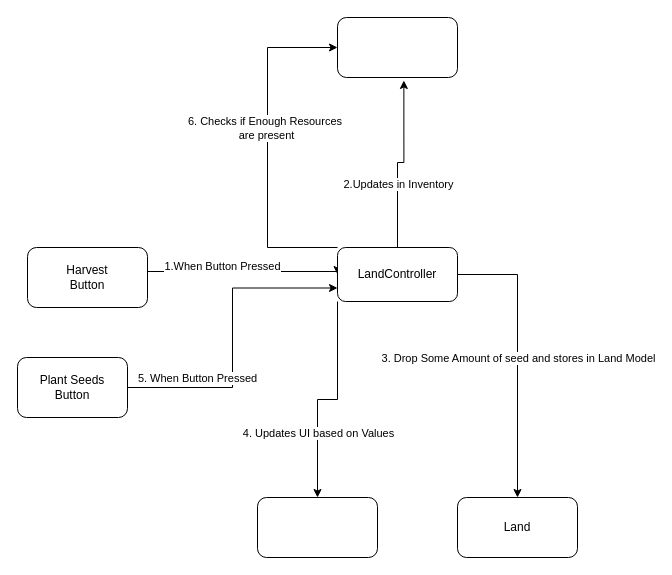
This 672x575 diagram has some shape labels left out. Here are the shapes that lost their labels. From the top down, the centre of each, then its label:
At [397,47]: "Inventory".
At [317,527]: "LandView".
